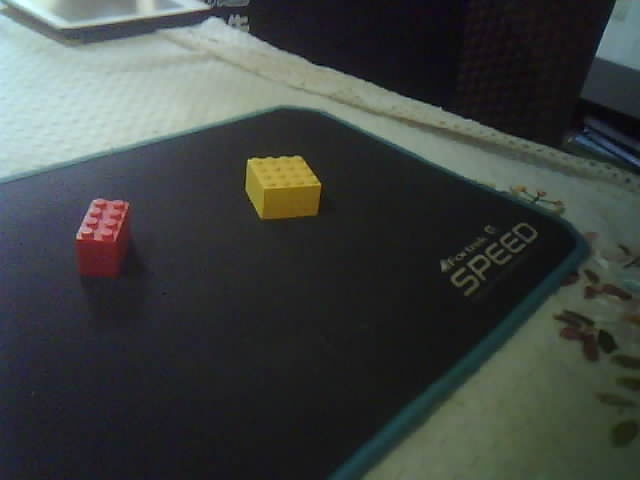lego: (243, 153, 323, 222), (74, 197, 132, 279)
